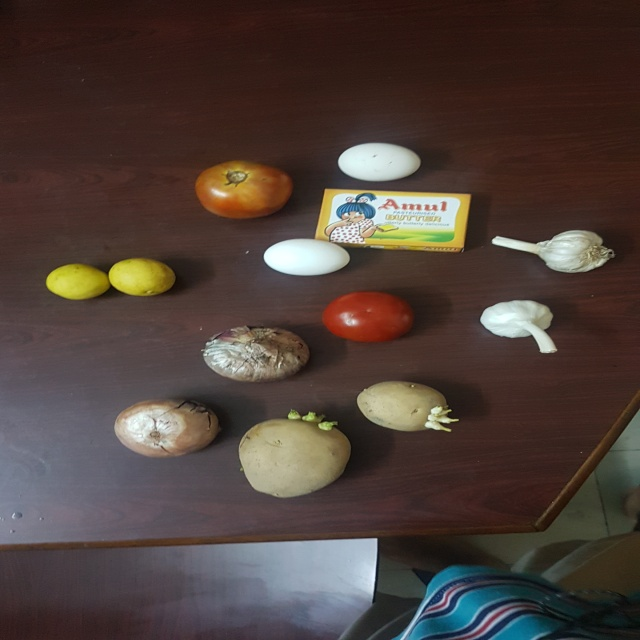butter: (312, 183, 477, 254)
eggs: (262, 233, 352, 281), (336, 139, 427, 182)
garlic: (488, 220, 615, 278), (477, 290, 569, 358)
lemon: (107, 256, 179, 297), (44, 261, 110, 304)
onion: (112, 397, 223, 460), (198, 323, 313, 383)
potato: (230, 408, 358, 501), (355, 377, 462, 439)
tomato: (189, 155, 294, 221), (322, 285, 425, 344)
